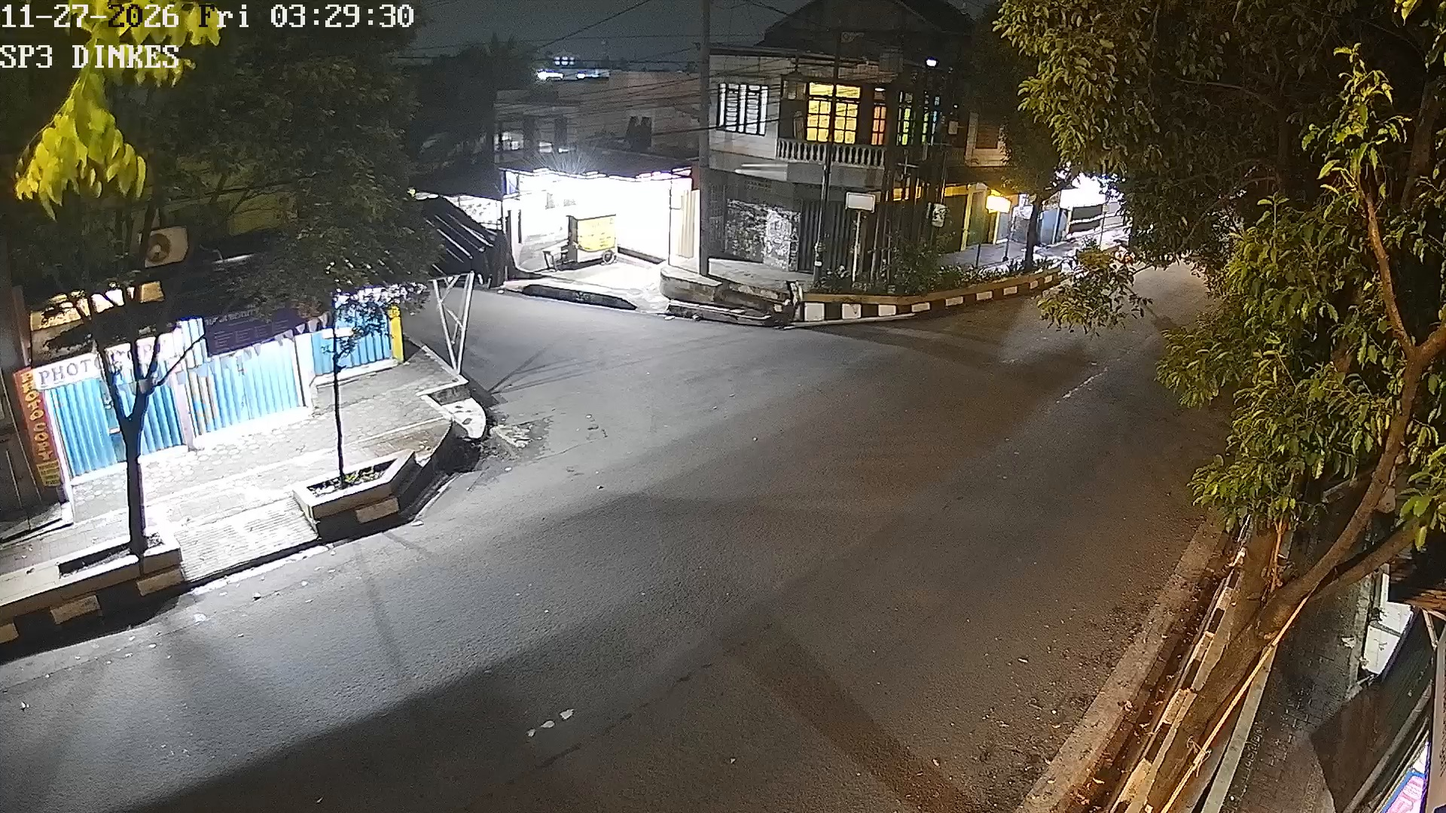Gerobak: (564, 211, 622, 267)
